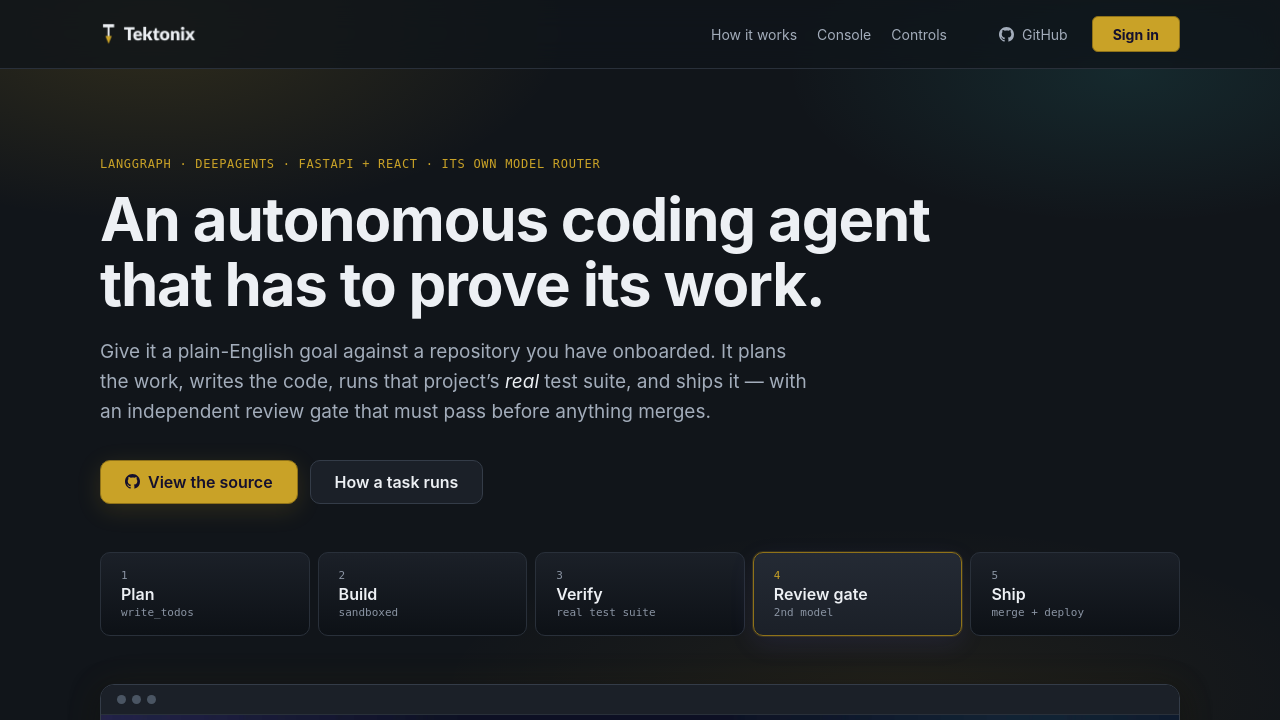
App — signed out › offers the source link on the landing page but not on the login card
The image size is (1280, 720).
Expected: the heading is shown, [100,183,930,320]
Expected: the link "GitHub" is shown, [999,26,1068,42]
Click the button "Sign in".
click(1136, 34)  # box [1092,16,1180,52]
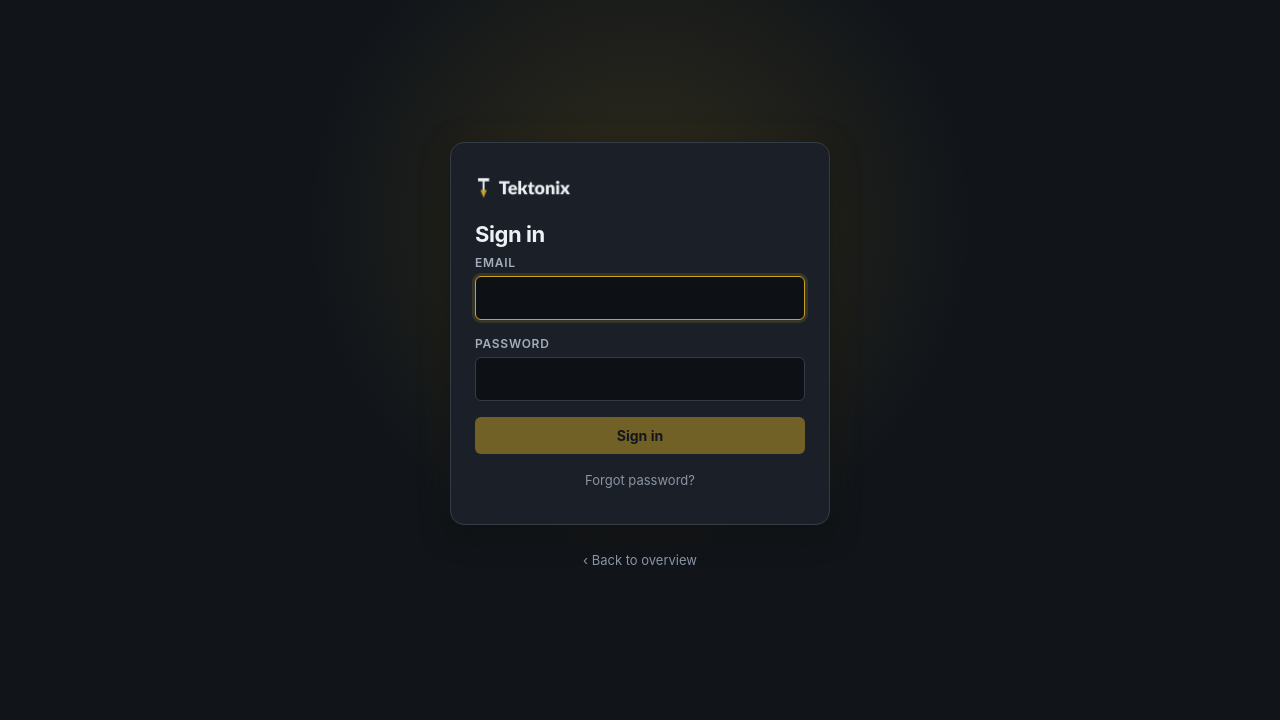
Result: the heading "Sign in" is shown at [475,220,545,246]
Result: the link "GitHub" is gone
